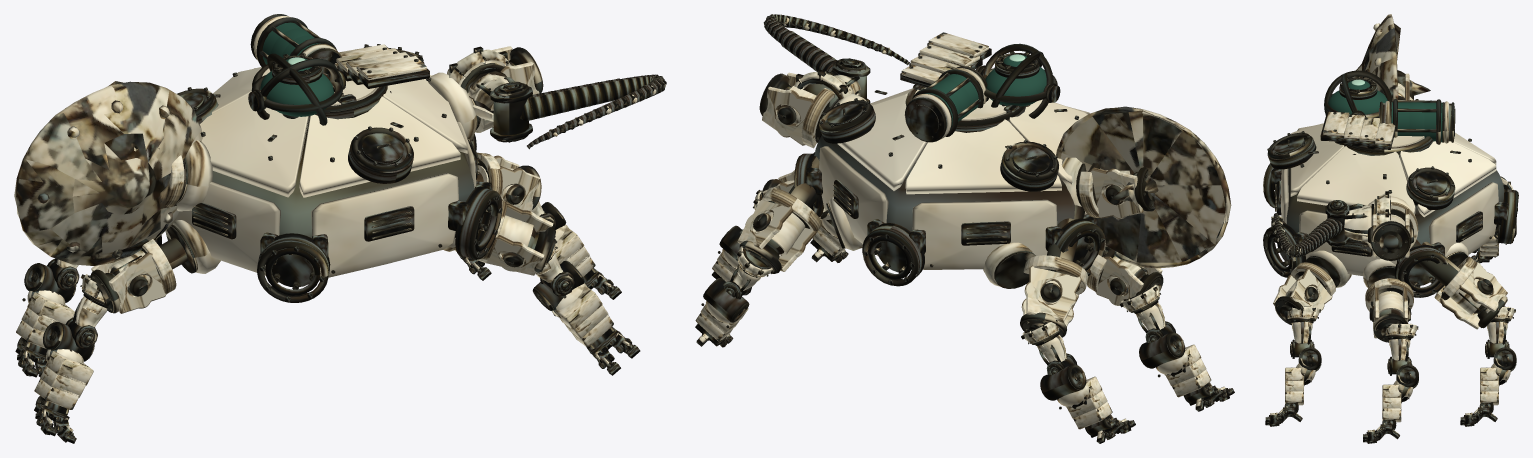
Rendered from sentinel-assembled.glb.
3 views of the same model, side by side, from view 1: azimuth 30°, elevation 25°; view 2: azimuth 150°, elevation 25°; view 3: azimuth 270°, elevation 25° (orthographic). The views are drawn at different scales.
Parts seen in each view (by area): view 1: sentinel-detail-ceramic, arm-shield, sentinel-detail-metal, leg-plated-icon-v2-ceramic (×4), joint-ceramic (×5), leg-plated-icon-v2-steel (×4), arm-whip-icon-v1-steel, sentinel-detail-brass, sentinel-steel, sealed-socket-casing (×3), organ-stabilizer-icon-v1-brass, leg-plated-icon-v2-brass (×3) (+11 smaller); view 2: sentinel-detail-ceramic, arm-shield, joint-ceramic (×5), sentinel-detail-metal, leg-plated-icon-v2-ceramic (×5), leg-plated-icon-v2-steel (×3), sentinel-detail-brass, joint-machined (×5), sentinel-steel, arm-whip-icon-v1-steel, organ-armor-icon-v1-ceramic, organ-stabilizer-icon-v1-brass (+12 smaller); view 3: sentinel-detail-ceramic, sentinel-detail-metal, joint-ceramic (×4), leg-plated-icon-v2-ceramic (×4), leg-plated-icon-v2-steel (×3), sentinel-detail-brass, joint-machined (×4), arm-shield, arm-whip-icon-v1-steel, sentinel-steel, leg-plated-icon-v2-brass (×3), organ-armor-icon-v1-ceramic (+14 smaller).
Boxes of the visible parts, box(x1,y1,x2,y2) form: sentinel-detail-ceramic: box(166, 67, 476, 277); arm-shield: box(14, 81, 203, 265); sentinel-detail-metal: box(155, 44, 502, 301); leg-plated-icon-v2-ceramic (×4): box(16, 201, 629, 431); joint-ceramic (×5): box(91, 46, 553, 313); leg-plated-icon-v2-steel (×4): box(15, 202, 640, 443); arm-whip-icon-v1-steel: box(458, 56, 666, 149); sentinel-detail-brass: box(177, 46, 502, 302); sentinel-steel: box(212, 130, 474, 237); sealed-socket-casing (×3): box(172, 72, 477, 273); organ-stabilizer-icon-v1-brass: box(251, 53, 342, 130); leg-plated-icon-v2-brass (×3): box(17, 239, 634, 436); sentinel-detail-ceramic: box(819, 87, 1089, 269); arm-shield: box(1056, 106, 1231, 268); joint-ceramic (×5): box(737, 72, 1162, 326); sentinel-detail-metal: box(794, 84, 1104, 286); leg-plated-icon-v2-ceramic (×5): box(695, 190, 1225, 438); leg-plated-icon-v2-steel (×3): box(695, 248, 1234, 443); sentinel-detail-brass: box(794, 88, 1105, 286); joint-machined (×5): box(739, 73, 1163, 337); sentinel-steel: box(814, 135, 1074, 231); arm-whip-icon-v1-steel: box(763, 14, 909, 107); organ-armor-icon-v1-ceramic: box(901, 32, 988, 84); organ-stabilizer-icon-v1-brass: box(978, 43, 1057, 118); sentinel-detail-ceramic: box(1281, 123, 1498, 279); sentinel-detail-metal: box(1264, 99, 1518, 297); joint-ceramic (×4): box(1273, 202, 1507, 338); leg-plated-icon-v2-ceramic (×4): box(1270, 182, 1514, 433); leg-plated-icon-v2-steel (×3): box(1265, 306, 1516, 443); sentinel-detail-brass: box(1263, 132, 1518, 297); joint-machined (×4): box(1274, 209, 1507, 342); arm-shield: box(1352, 14, 1430, 101); arm-whip-icon-v1-steel: box(1273, 196, 1390, 257); sentinel-steel: box(1286, 168, 1504, 244); leg-plated-icon-v2-brass (×3): box(1268, 307, 1516, 439); organ-armor-icon-v1-ceramic: box(1323, 111, 1395, 144).
Size of the model in its own units: 2.89 by 1.59 by 1.44.
93 materials, 89 textured.
